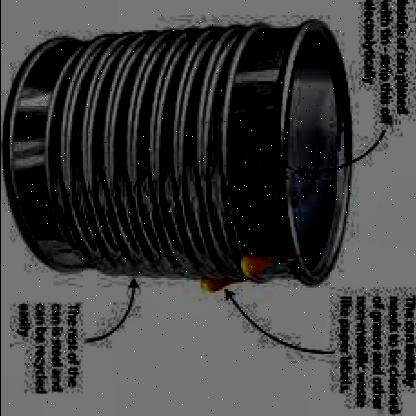Can: (2, 14, 358, 292)
